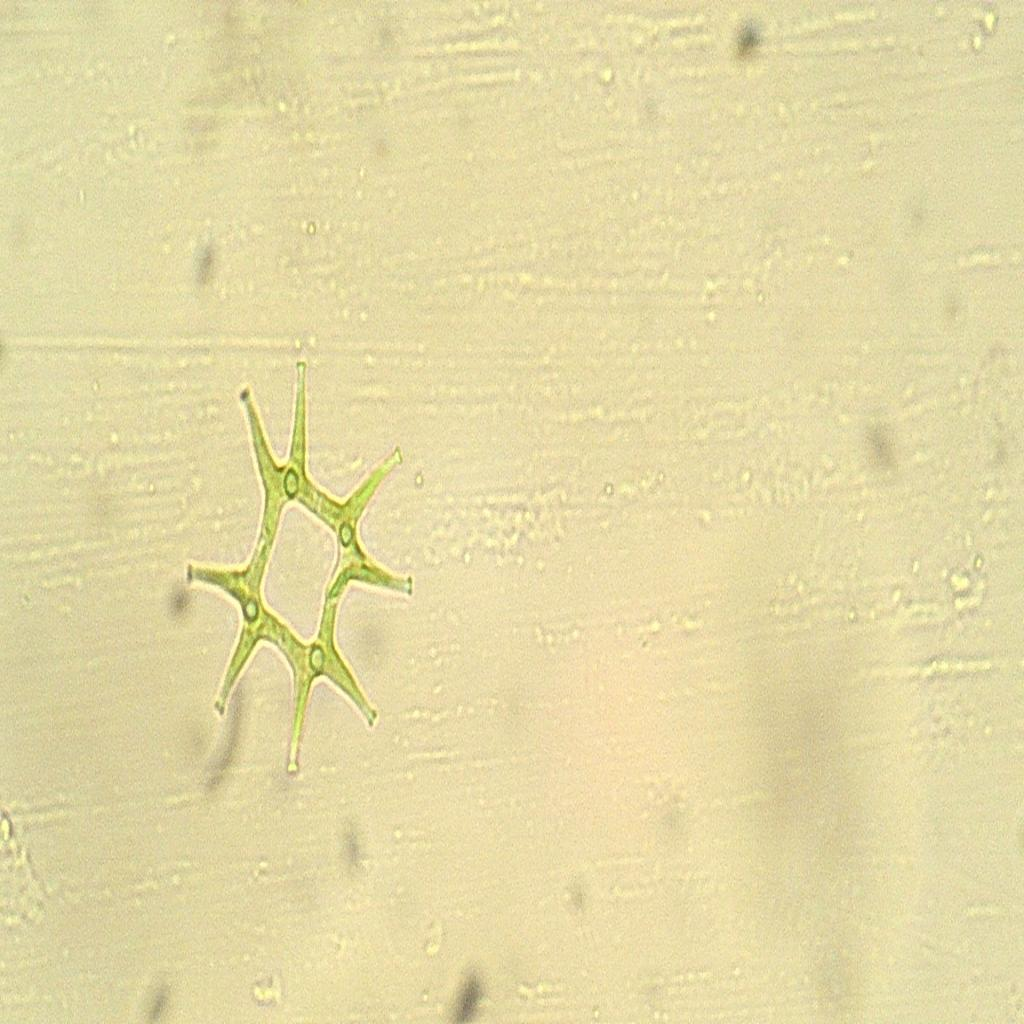Pediastrum_75O: (178, 334, 427, 785)
